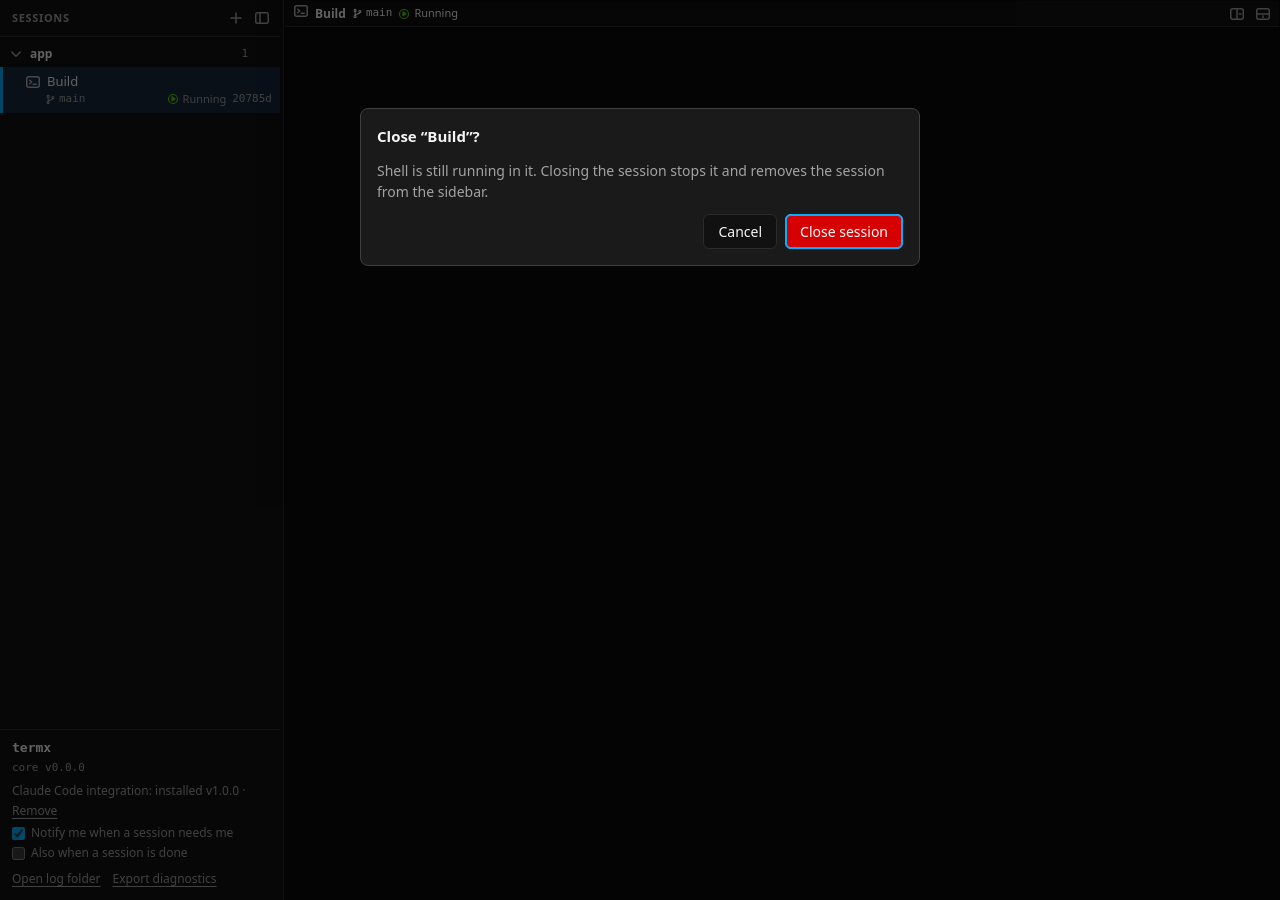
Test: shortcuts › ask before closing a session that runs
Expected: the dialog with test id "confirm-close-dialog" shows "Close “Build”?", [377,126,480,146]
Click the button with test id "confirm-close" at (844, 231), box [785,214,903,248]
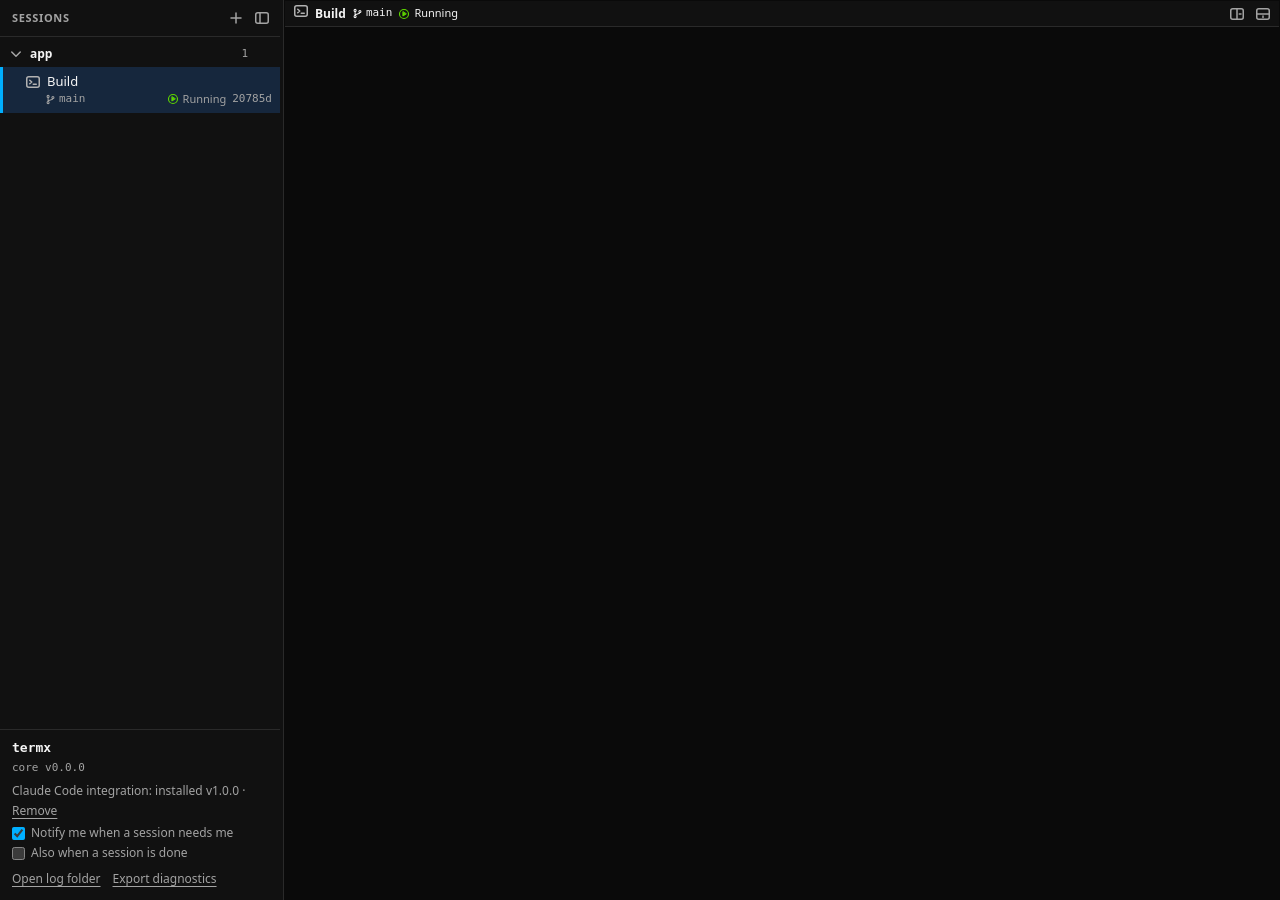
Expected: the dialog with test id "confirm-close-dialog" is gone
